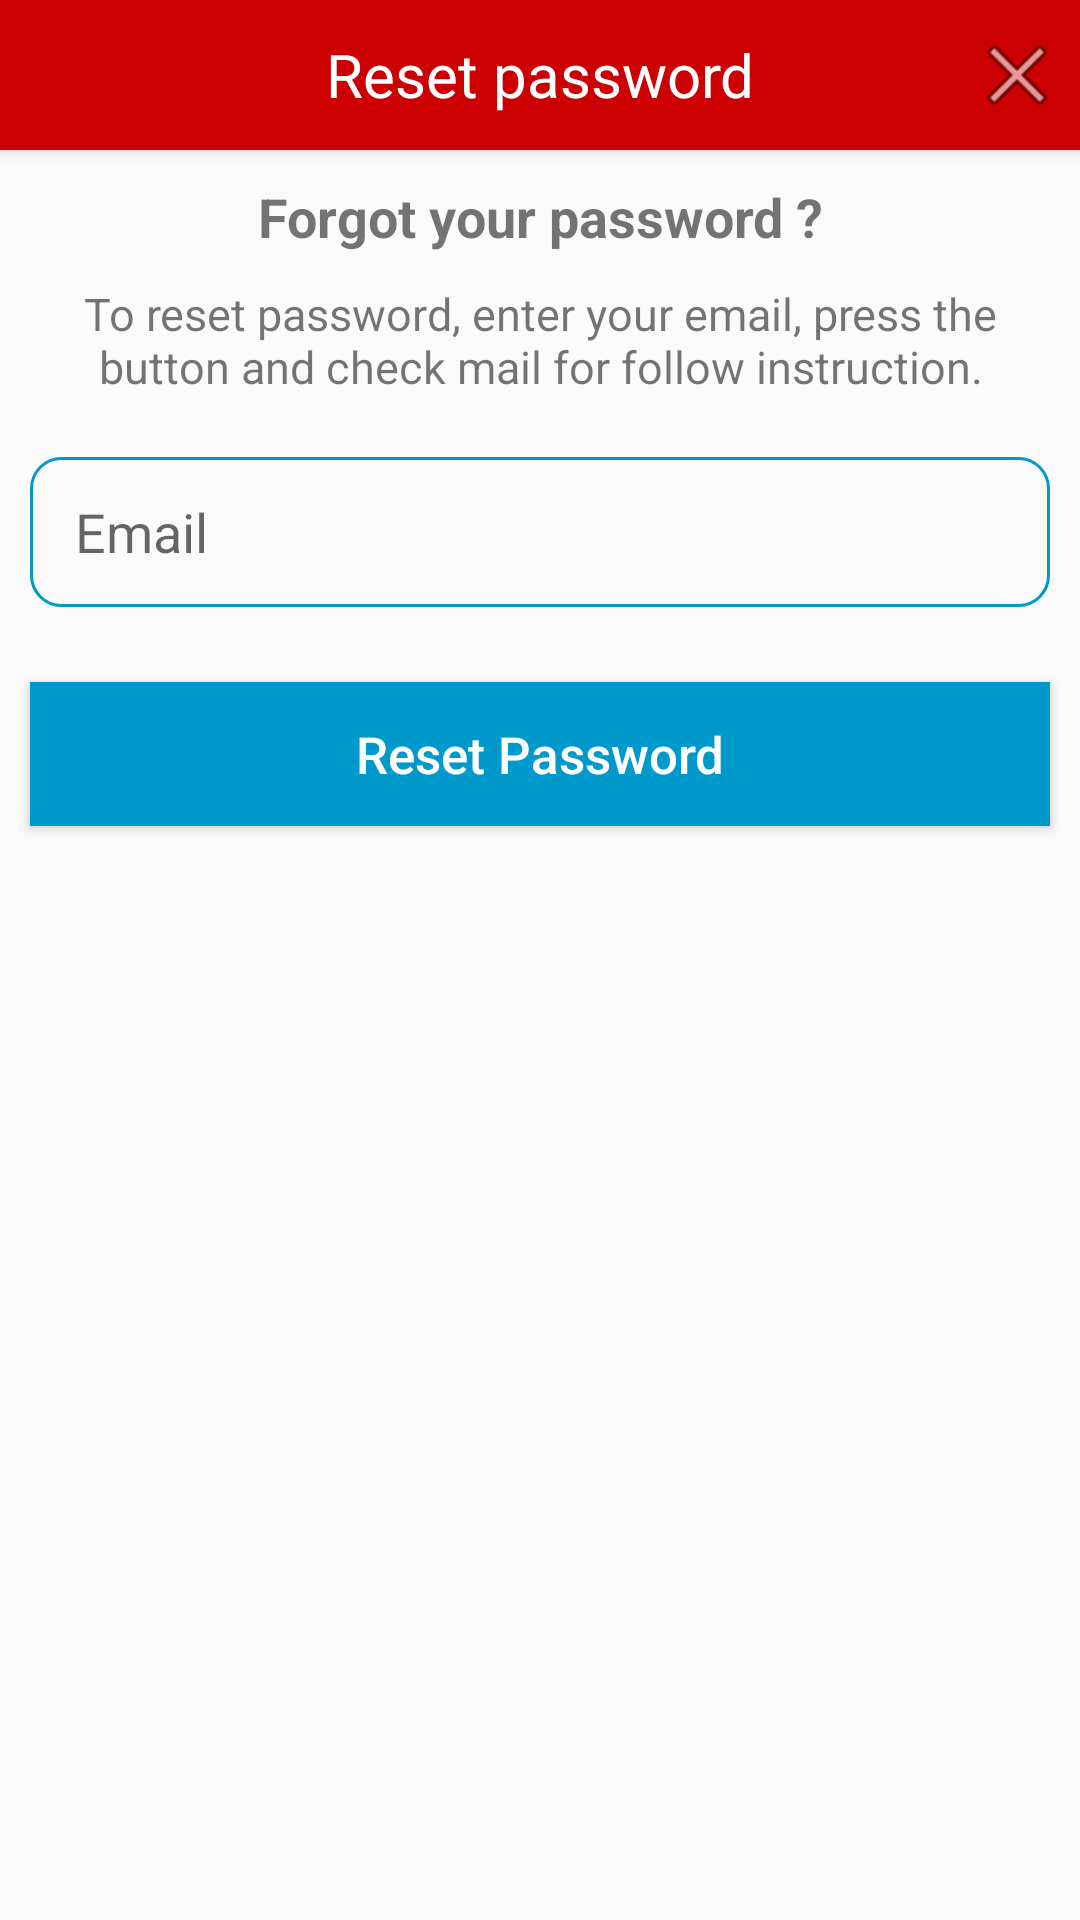

Point at icon controls on the screen. Image size 1080px x 1920px, points as (x,y).
close clear cancel: (1017,75)
